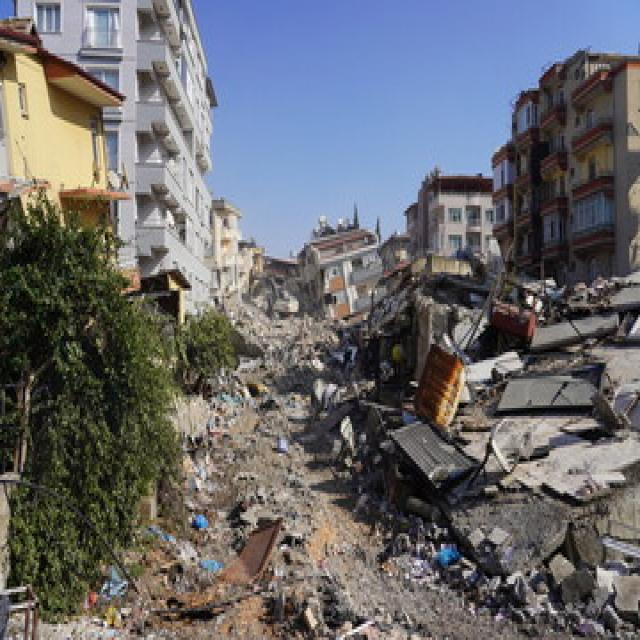Destroyed_building: (108, 1, 639, 640)
